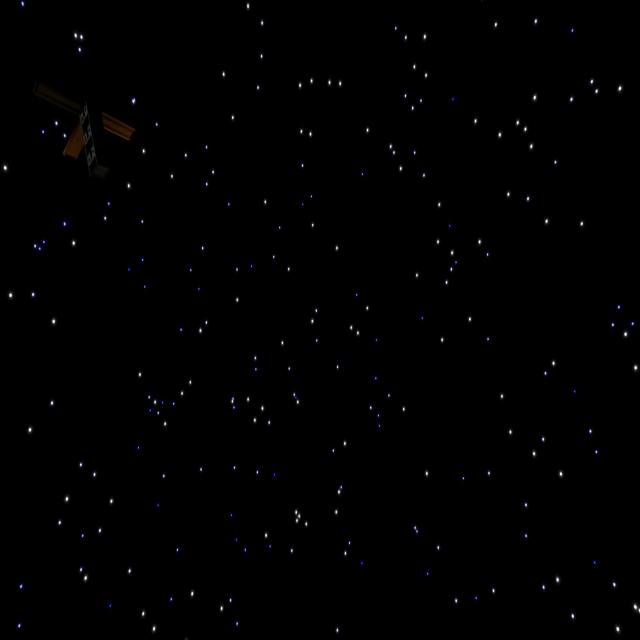satellite: (61, 95, 141, 172)
